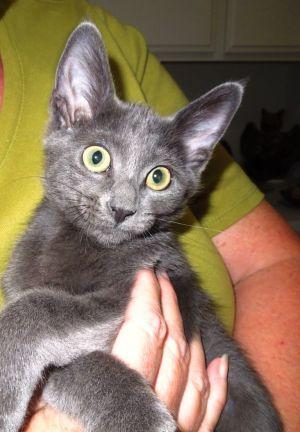rblue: (29, 3, 260, 244)
